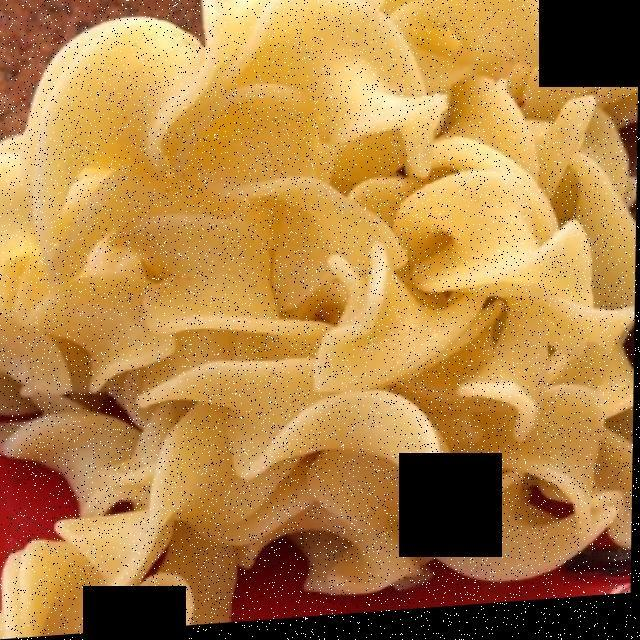pasta: (8, 0, 629, 624)
